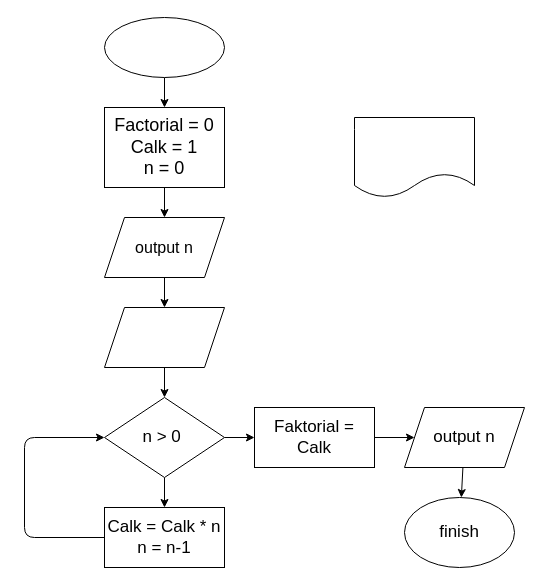
Some shapes in this 542 by 585 pixel diagram are drawn without their labels. Here are the shapes that lost their labels. From the top down, the box of each, then its label:
(104, 16, 224, 78): start
(354, 116, 474, 198): Найти факториал числа n
(104, 306, 224, 368): input n
